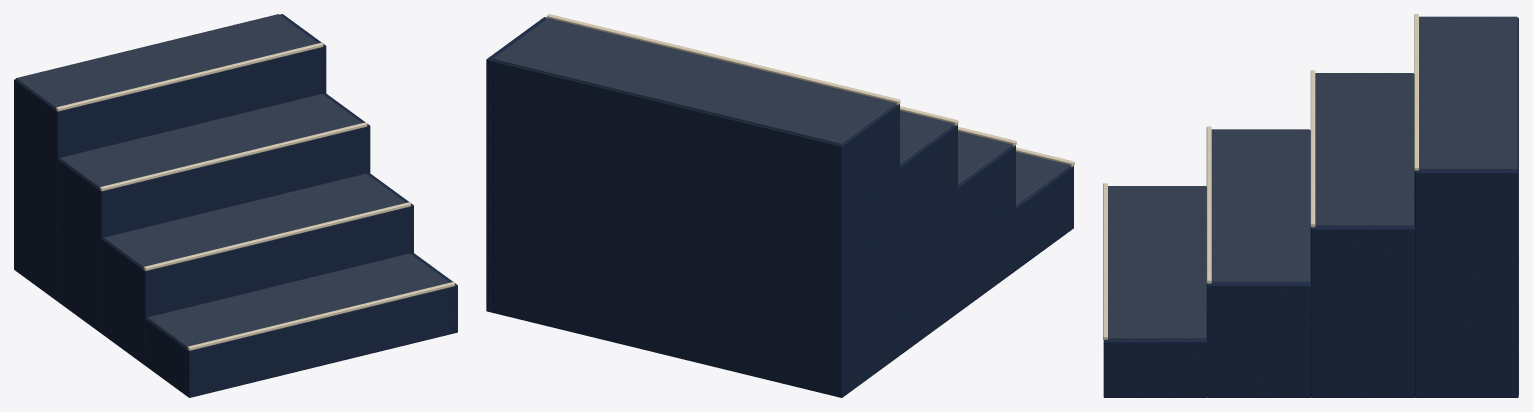
The model's file is 21_stage_stairs_right.glb.
3 renders of one model, left to right at view 1: azimuth 30°, elevation 25°; view 2: azimuth 150°, elevation 25°; view 3: azimuth 270°, elevation 25°, orthographic. The views are drawn at different scales.
Visible parts, largest first — view 1: 21_stage_stairs_right__solid_riser.003, 21_stage_stairs_right__solid_riser.002, 21_stage_stairs_right__solid_riser.001, 21_stage_stairs_right__solid_riser, 21_stage_stairs_right__carpet_tread.003, 21_stage_stairs_right__carpet_tread, 21_stage_stairs_right__carpet_tread.001, 21_stage_stairs_right__carpet_tread.002, 21_stage_stairs_right__step_nosing, 21_stage_stairs_right__step_nosing.001, 21_stage_stairs_right__step_nosing.002, 21_stage_stairs_right__step_nosing.003; view 2: 21_stage_stairs_right__solid_riser.003, 21_stage_stairs_right__carpet_tread.003, 21_stage_stairs_right__solid_riser.002, 21_stage_stairs_right__solid_riser.001, 21_stage_stairs_right__solid_riser, 21_stage_stairs_right__step_nosing.003, 21_stage_stairs_right__carpet_tread, 21_stage_stairs_right__carpet_tread.001, 21_stage_stairs_right__carpet_tread.002, 21_stage_stairs_right__outer_cheek.003; view 3: 21_stage_stairs_right__outer_cheek.003, 21_stage_stairs_right__outer_cheek.002, 21_stage_stairs_right__carpet_tread.001, 21_stage_stairs_right__carpet_tread.002, 21_stage_stairs_right__carpet_tread, 21_stage_stairs_right__carpet_tread.003, 21_stage_stairs_right__outer_cheek.001, 21_stage_stairs_right__outer_cheek, 21_stage_stairs_right__step_nosing.001, 21_stage_stairs_right__step_nosing.002, 21_stage_stairs_right__step_nosing, 21_stage_stairs_right__step_nosing.003 (+3 smaller).
Boxes of the visible parts, x1,y1,x2,y2 form: 21_stage_stairs_right__solid_riser.003: (14, 47, 322, 301); 21_stage_stairs_right__solid_riser.002: (58, 127, 366, 333); 21_stage_stairs_right__solid_riser.001: (101, 206, 410, 365); 21_stage_stairs_right__solid_riser: (145, 286, 454, 397); 21_stage_stairs_right__carpet_tread.003: (15, 14, 317, 108); 21_stage_stairs_right__carpet_tread: (147, 253, 449, 347); 21_stage_stairs_right__carpet_tread.001: (103, 173, 405, 267); 21_stage_stairs_right__carpet_tread.002: (59, 94, 361, 188); 21_stage_stairs_right__step_nosing: (187, 282, 454, 350); 21_stage_stairs_right__step_nosing.001: (143, 202, 410, 270); 21_stage_stairs_right__step_nosing.002: (100, 122, 367, 191); 21_stage_stairs_right__step_nosing.003: (56, 42, 323, 111); 21_stage_stairs_right__solid_riser.003: (491, 59, 899, 397); 21_stage_stairs_right__carpet_tread.003: (493, 18, 896, 144); 21_stage_stairs_right__solid_riser.002: (900, 124, 957, 355); 21_stage_stairs_right__solid_riser.001: (958, 145, 1015, 312); 21_stage_stairs_right__solid_riser: (1016, 166, 1073, 270); 21_stage_stairs_right__step_nosing.003: (546, 14, 900, 104); 21_stage_stairs_right__carpet_tread: (1016, 152, 1070, 206); 21_stage_stairs_right__carpet_tread.001: (958, 131, 1012, 185); 21_stage_stairs_right__carpet_tread.002: (900, 110, 954, 164); 21_stage_stairs_right__outer_cheek.003: (486, 17, 546, 312); 21_stage_stairs_right__outer_cheek.003: (1415, 170, 1518, 397); 21_stage_stairs_right__outer_cheek.002: (1311, 227, 1414, 397); 21_stage_stairs_right__carpet_tread.001: (1211, 129, 1310, 282); 21_stage_stairs_right__carpet_tread.002: (1315, 73, 1413, 226); 21_stage_stairs_right__carpet_tread: (1108, 186, 1206, 339); 21_stage_stairs_right__carpet_tread.003: (1419, 16, 1517, 169); 21_stage_stairs_right__outer_cheek.001: (1207, 283, 1311, 397); 21_stage_stairs_right__outer_cheek: (1103, 340, 1207, 397); 21_stage_stairs_right__step_nosing.001: (1206, 126, 1211, 283); 21_stage_stairs_right__step_nosing.002: (1310, 70, 1315, 227); 21_stage_stairs_right__step_nosing: (1103, 183, 1107, 339); 21_stage_stairs_right__step_nosing.003: (1414, 14, 1418, 170).
Bounding box in the file's own units: 1.06 × 0.731 × 1.2.
Materials: 3 (3 with a texture image).
